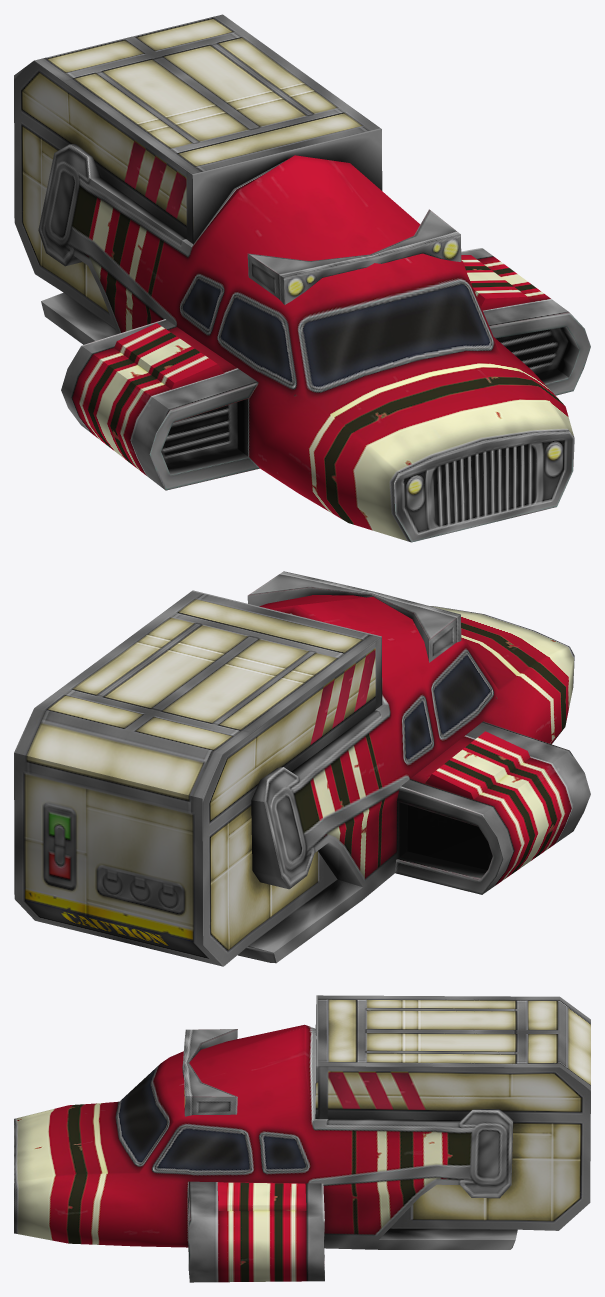
File: JpCarga0_low.FBX
The picture shows the model from 3 angles, top to bottom: view 1: azimuth 30°, elevation 25°; view 2: azimuth 150°, elevation 25°; view 3: azimuth 270°, elevation 25°; orthographic projection. The views are drawn at different scales.
Visible parts, largest first — view 1: JpCarga0; view 2: JpCarga0; view 3: JpCarga0.
Part boxes in pixels (x1,y1,x2,y2): JpCarga0: [14, 14, 590, 542]; JpCarga0: [14, 571, 590, 966]; JpCarga0: [14, 995, 590, 1282].
Bounding box in the file's own units: 2.27 × 1.13 × 3.34.
